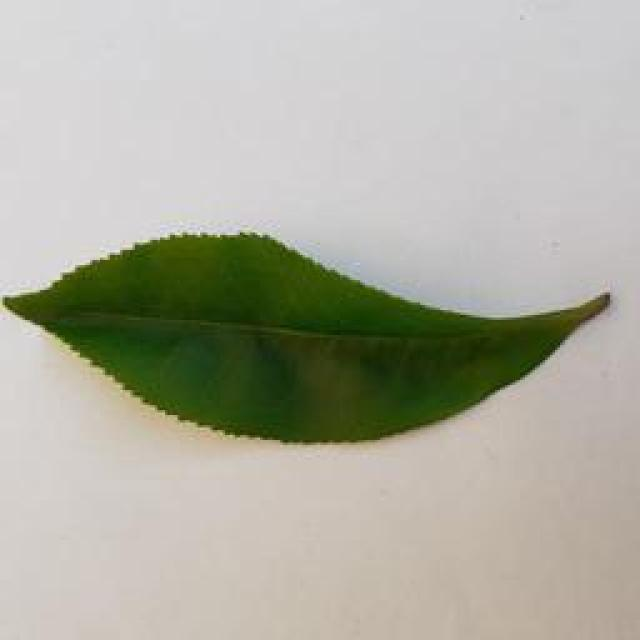Healthy: (0, 216, 640, 452)
